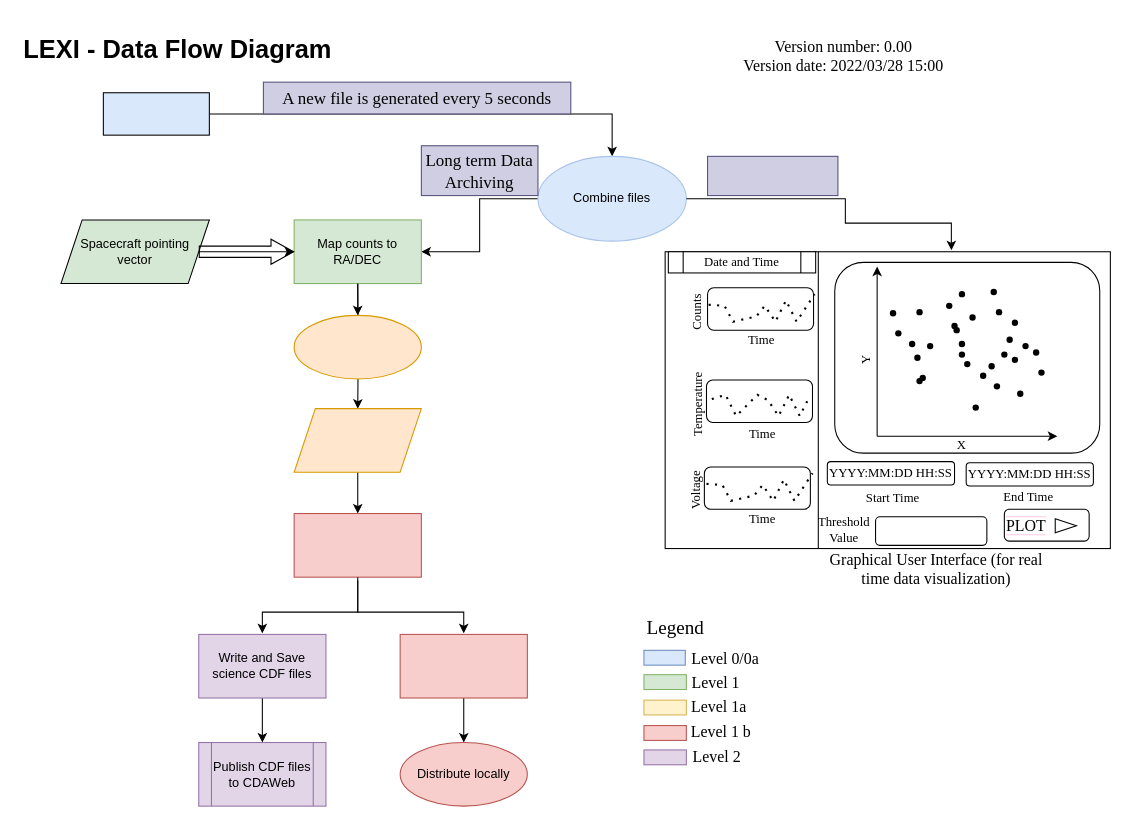
This 1129x825 diagram has some shape labels left out. The shapes that lost their labels are listed below. From the top down, each one's centre as x and y in pixels, then its label:
the point at 155,113: Binary Data
the point at 772,175: Real-time visualization
the point at 357,346: De-warp the Data
the point at 357,440: Add soft-Xray background
the point at 357,545: Make Exposure Maps
the point at 463,665: Write and Save Engineering CDF files
